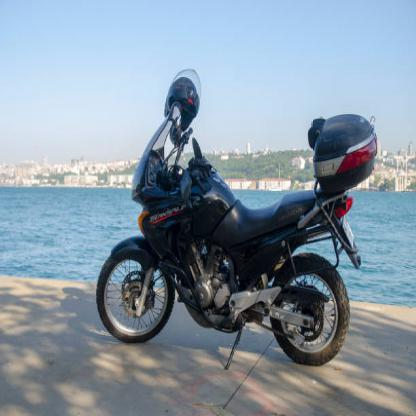Motorcycle: (89, 64, 377, 376)
